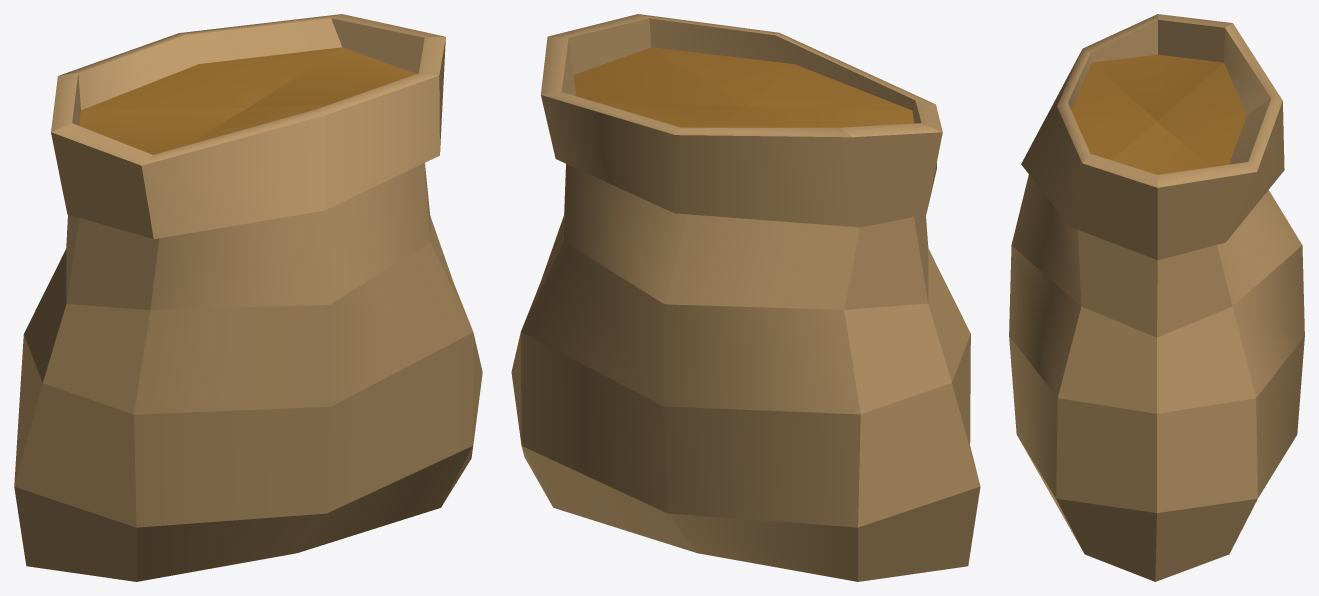
File: GrainBagOpen.fbx
3 views of the same model, side by side, from view 1: azimuth 30°, elevation 25°; view 2: azimuth 150°, elevation 25°; view 3: azimuth 270°, elevation 25° (orthographic). The views are drawn at different scales.
Parts seen in each view (by area): view 1: GrainBagOpen; view 2: GrainBagOpen; view 3: GrainBagOpen.
Boxes of the visible parts, <box> form: GrainBagOpen: <box>14,14,482,581</box>; GrainBagOpen: <box>511,14,980,581</box>; GrainBagOpen: <box>1009,14,1304,581</box>.
Size of the model in its own units: 0.8449 by 0.7873 by 0.5144.
